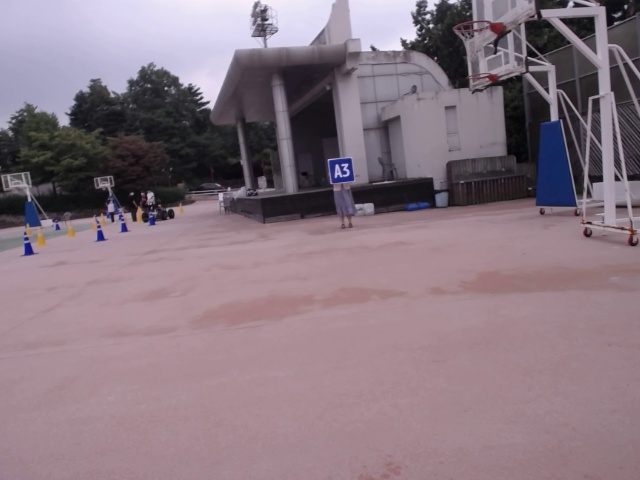delivery_a3: (329, 158, 355, 184)
